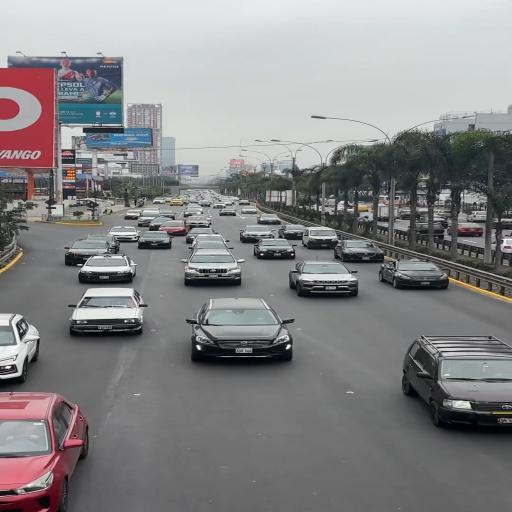auto: (0, 392, 90, 511), (401, 336, 508, 429), (184, 299, 292, 358), (67, 288, 147, 334), (0, 315, 43, 382), (287, 259, 360, 298), (179, 246, 246, 287), (378, 258, 449, 290), (76, 254, 140, 284), (63, 237, 120, 266), (331, 240, 385, 262), (251, 238, 298, 260), (300, 226, 342, 248), (188, 235, 232, 254), (238, 224, 276, 243), (137, 230, 174, 249), (184, 227, 220, 244), (105, 226, 141, 242), (446, 222, 482, 237), (410, 222, 447, 236), (157, 220, 189, 236), (278, 223, 308, 239), (147, 217, 174, 230), (184, 215, 212, 227), (257, 214, 282, 225), (218, 207, 238, 216), (239, 206, 258, 214)
